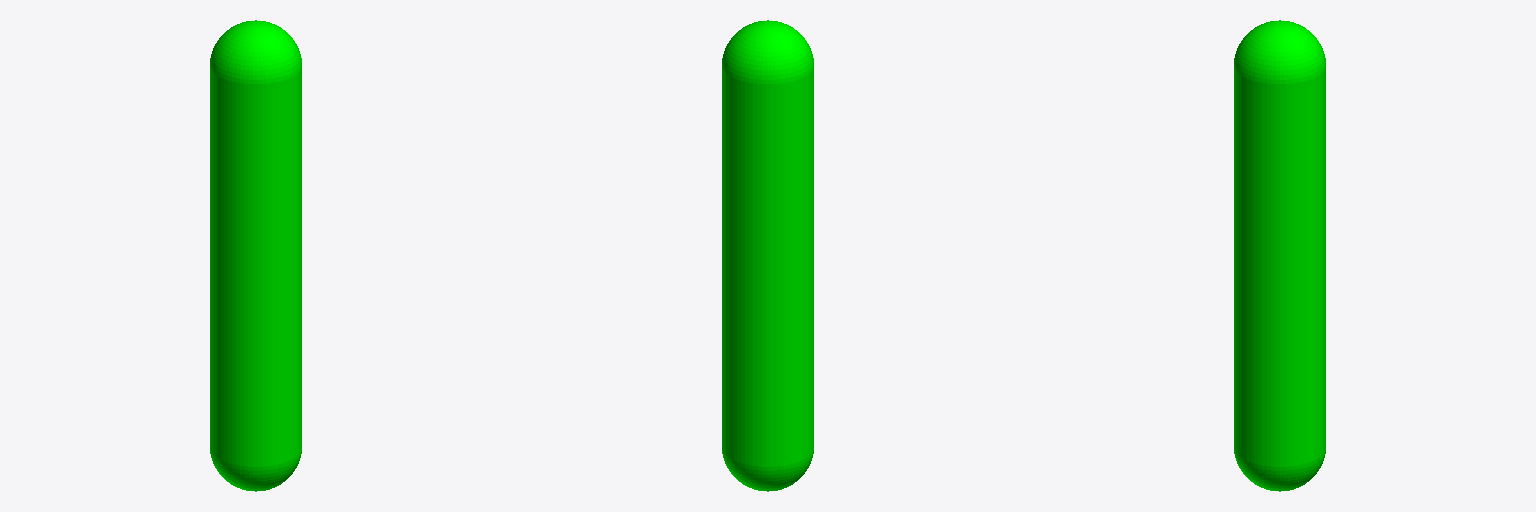
robot.urdf — rope_spherical_joints:
<?xml version="1.0" encoding="UTF-8"?>
<robot name="rope_spherical_joints">

  <!-- 
    A tiny anchor link with no mass to fix the top of the rope in space.
    We rely on loadURDF(basePosition=[0.635, 0.135, 1]) to place it globally.
  -->
  <link name="anchor_link">
    <visual>
      <geometry>
        <sphere radius="0.001"/>
      </geometry>
      <material name="Grey">
        <color rgba="0.5 0.5 0.5 1.0"/>
      </material>
    </visual>
    <collision>
      <geometry>
        <sphere radius="0.001"/>
      </geometry>
    </collision>
    <inertial>
      <mass value="0.0"/>
      <origin xyz="0 0 0" rpy="0 0 0"/>
      <inertia ixx="0" ixy="0" ixz="0" iyy="0" iyz="0" izz="0"/>
    </inertial>
  </link>

  <!-- 
    Fix anchor_link to segment_1 so the top of the rope is anchored. 
    No offset => segment_1 top is at anchor_link origin, 
    which PyBullet places at (0.635, 0.135, 1).
  -->
  <joint name="anchor_to_segment_1" type="fixed">
    <parent link="anchor_link"/>
    <child link="segment_1"/>
    <origin xyz="0 0 0" rpy="0 0 0"/>
  </joint>

  <!-- ==============================
       DEFINE THE 10 SEGMENTS
       Each references segment_capsule.stl,
       length=0.06, radius=0.02, 
       shifted by -0.03 in z so top is at z=0.
  ============================== -->

  <!-- segment_1 -->
  <link name="segment_1">
    <visual>
      <origin xyz="0 0 -0.03" rpy="0 0 0"/>
      <geometry>
        <mesh filename="segment_capsule.stl" scale="1 1 1"/>
      </geometry>
      <material name="Green">
        <color rgba="0 1 0 1"/>
      </material>
    </visual>
    <collision>
      <origin xyz="0 0 -0.03" rpy="0 0 0"/>
      <geometry>
        <mesh filename="segment_capsule.stl" scale="1 1 1"/>
      </geometry>
    </collision>
    <inertial>
      <mass value="0.1"/>
      <origin xyz="0 0 0"/>
      <inertia ixx="0.0001" ixy="0" ixz="0"
               iyy="0.0001" iyz="0" izz="0.0001"/>
    </inertial>
  </link>

  <!-- segment_2 -->
  <link name="segment_2">
    <visual>
      <origin xyz="0 0 -0.03"/>
      <geometry>
        <mesh filename="segment_capsule.stl" scale="1 1 1"/>
      </geometry>
      <material name="Green">
        <color rgba="0 1 0 1"/>
      </material>
    </visual>
    <collision>
      <origin xyz="0 0 -0.03"/>
      <geometry>
        <mesh filename="segment_capsule.stl" scale="1 1 1"/>
      </geometry>
    </collision>
    <inertial>
      <mass value="0.1"/>
      <origin xyz="0 0 0"/>
      <inertia ixx="0.0001" ixy="0" ixz="0"
               iyy="0.0001" iyz="0" izz="0.0001"/>
    </inertial>
  </link>

  <!-- segment_3 -->
  <link name="segment_3">
    <visual>
      <origin xyz="0 0 -0.03"/>
      <geometry>
        <mesh filename="segment_capsule.stl" scale="1 1 1"/>
      </geometry>
      <material name="Green">
        <color rgba="0 1 0 1"/>
      </material>
    </visual>
    <collision>
      <origin xyz="0 0 -0.03"/>
      <geometry>
        <mesh filename="segment_capsule.stl" scale="1 1 1"/>
      </geometry>
    </collision>
    <inertial>
      <mass value="0.1"/>
      <origin xyz="0 0 0"/>
      <inertia ixx="0.0001" ixy="0" ixz="0"
               iyy="0.0001" iyz="0" izz="0.0001"/>
    </inertial>
  </link>

  <!-- 
    For each union: "segment_i" -> 3 revolute joints -> "segment_(i+1)"
    We'll define "dummy" links with zero geometry & zero mass
    so that we can chain x, y, z axes in a row.
  -->

  <!-- =============================
       UNION from segment_1 to segment_2: 
         1) revolve X   -> link_1_2_rx
         2) revolve Y   -> link_1_2_ry
         3) revolve Z   -> segment_2
  ============================== -->

  <!-- A dummy link with zero mass & no geometry -->
  <link name="link_1_2_rx">
    <inertial>
      <mass value="0.0"/>
      <origin xyz="0 0 0"/>
      <inertia ixx="0" ixy="0" ixz="0"
               iyy="0" iyz="0" izz="0"/>
    </inertial>
  </link>

  <!-- revolve X joint -->
  <joint name="joint_1_2_rx" type="continuous">
    <parent link="segment_1"/>
    <child link="link_1_2_rx"/>
    <!-- We place these 0.06 below segment_1's origin, at the bottom -->
    <origin xyz="0 0 -0.06" rpy="0 0 0"/>
    <axis xyz="1 0 0"/>
    <!-- Very wide limits emulate free rotation -->
    <limit effort="100" lower="-3.14" upper="3.14" velocity="50"/>
  </joint>

  <link name="link_1_2_ry">
    <inertial>
      <mass value="0.0"/>
      <origin xyz="0 0 0"/>
      <inertia ixx="0" ixy="0" ixz="0"
               iyy="0" iyz="0" izz="0"/>
    </inertial>
  </link>

  <!-- revolve Y joint -->
  <joint name="joint_1_2_ry" type="continuous">
    <parent link="link_1_2_rx"/>
    <child link="link_1_2_ry"/>
    <origin xyz="0 0 0" rpy="0 0 0"/>
    <axis xyz="0 1 0"/>
    <limit effort="100" lower="-3.14" upper="3.14" velocity="10"/>
  </joint>

  <!-- revolve Z joint leads directly to segment_2 -->
  <joint name="joint_1_2_rz" type="continuous">
    <parent link="link_1_2_ry"/>
    <child link="segment_2"/>
    <origin xyz="0 0 0" rpy="0 0 0"/>
    <axis xyz="0 0 1"/>
    <limit effort="100" lower="-3.14" upper="3.14" velocity="50"/>
  </joint>


  <!-- =============================
       UNION from segment_2 to segment_3
       (3 revolve joints about X, Y, Z)
  ============================== -->

  <link name="link_2_3_rx">
    <inertial>
      <mass value="0.0"/>
      <origin xyz="0 0 0"/>
      <inertia ixx="0" ixy="0" ixz="0"
               iyy="0" iyz="0" izz="0"/>
    </inertial>
  </link>

  <joint name="joint_2_3_rx" type="continuous">
    <parent link="segment_2"/>
    <child link="link_2_3_rx"/>
    <!-- bottom of segment_2 is at z=-0.06 from segment_2's origin -->
    <origin xyz="0 0 -0.06" rpy="0 0 0"/>
    <axis xyz="1 0 0"/>
    <limit effort="100" lower="-3.14" upper="3.14" velocity="50"/>
  </joint>

  <link name="link_2_3_ry">
    <inertial>
      <mass value="0.0"/>
      <origin xyz="0 0 0"/>
      <inertia ixx="0" ixy="0" ixz="0"
               iyy="0" iyz="0" izz="0"/>
    </inertial>
  </link>

  <joint name="joint_2_3_ry" type="continuous">
    <parent link="link_2_3_rx"/>
    <child link="link_2_3_ry"/>
    <origin xyz="0 0 0" rpy="0 0 0"/>
    <axis xyz="0 1 0"/>
    <limit effort="100" lower="-3.14" upper="3.14" velocity="50"/>
  </joint>

  <joint name="joint_2_3_rz" type="continuous">
    <parent link="link_2_3_ry"/>
    <child link="segment_3"/>
    <origin xyz="0 0 0" rpy="0 0 0"/>
    <axis xyz="0 0 1"/>
    <limit effort="100" lower="-3.14" upper="3.14" velocity="50"/>
  </joint>


  <!-- =============================
       Repeat similarly for segments 3->4, 4->5, 
       5->6, 6->7, 7->8, 8->9, 9->10
       Each union has 3 revolve joints: rx, ry, rz
       leading into the next segment
  ============================== -->

  <!-- For brevity, not rewriting all. 
       In practice, replicate the pattern:
         link_3_4_rx + joint_3_4_rx
         link_3_4_ry + joint_3_4_ry
         joint_3_4_rz => segment_4
       and so forth up to segment_10.
  -->

  <!-- ... YOU WOULD INSERT:
         link_3_4_rx, link_3_4_ry, joints_3_4_rx, etc. 
         link_4_5_rx, ...
         ...
         link_9_10_rx, link_9_10_ry, joints_9_10_rx, etc.
       EXACTLY THE SAME PATTERN. 
  -->

</robot>

--- What the picture shows (computed from the rendered views, not written in the file) ---
The picture shows the robot from 3 angles, left to right: view 1: azimuth 30°, elevation 25°; view 2: azimuth 150°, elevation 25°; view 3: azimuth 270°, elevation 25°; orthographic projection.
Robot: rope_spherical_joints — 8 links, 7 joints (6 continuous, 1 fixed); root link anchor_link; default pose: all joints at 0.
Links seen in each view (by area): view 1: segment_1, segment_3, segment_2; view 2: segment_1, segment_3, segment_2; view 3: segment_1, segment_3, segment_2.
Link boxes in pixels (<box>): segment_1: <box>210,20,301,214</box>; segment_3: <box>210,320,301,491</box>; segment_2: <box>210,197,301,340</box>; segment_1: <box>722,20,813,214</box>; segment_3: <box>722,320,813,491</box>; segment_2: <box>722,194,813,340</box>; segment_1: <box>1234,20,1325,214</box>; segment_3: <box>1234,322,1325,491</box>; segment_2: <box>1234,197,1325,340</box>.
Bounding box of the posed robot: 0.0399 × 0.0399 × 0.22 m (x, y, z).
Meshes: 1 distinct files referenced, 3 mesh visuals loaded (1 binary STL).